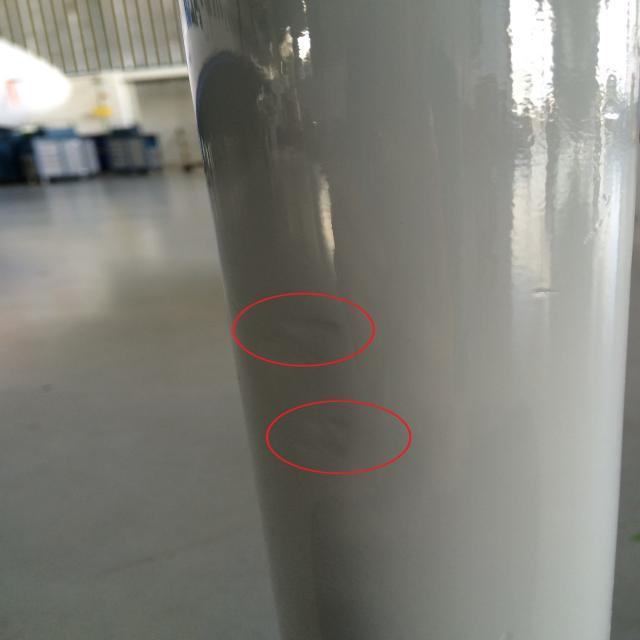dent: (284, 406, 372, 469), (254, 304, 366, 352), (514, 280, 570, 304)
